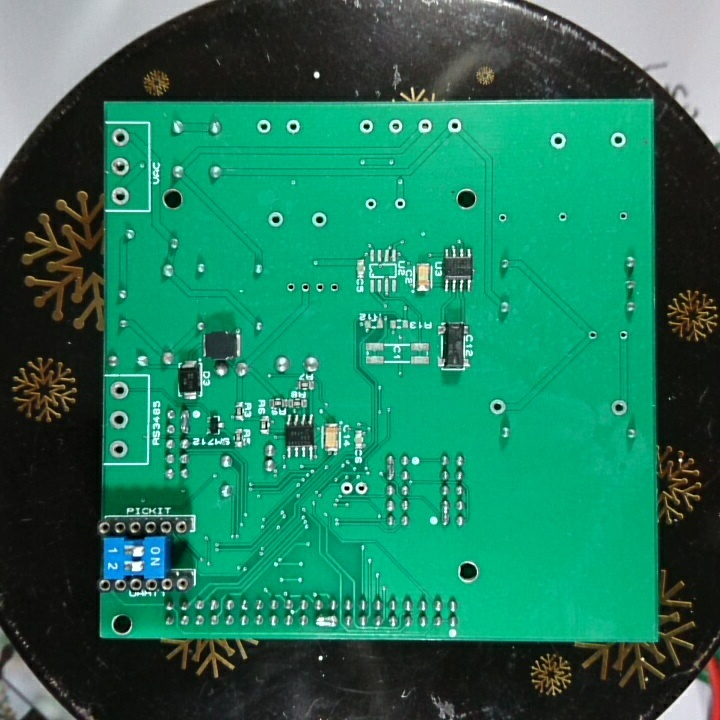F: (109, 183, 132, 208), (107, 437, 131, 460), (109, 127, 132, 150), (109, 155, 132, 178), (108, 379, 131, 402), (108, 408, 130, 431), (548, 131, 569, 153), (608, 130, 629, 151), (488, 396, 508, 418), (445, 116, 465, 138), (308, 209, 330, 229), (357, 117, 377, 138), (265, 209, 285, 230), (254, 118, 274, 138), (609, 398, 628, 418), (414, 117, 434, 136), (284, 117, 303, 137), (387, 117, 405, 135), (363, 195, 378, 215), (354, 480, 370, 498), (554, 210, 571, 226), (339, 480, 354, 498), (393, 196, 409, 211), (616, 329, 632, 343), (585, 328, 599, 343), (495, 211, 509, 226), (299, 280, 312, 296), (328, 280, 342, 294), (616, 209, 629, 224), (313, 280, 325, 296), (284, 280, 296, 296)
P: (313, 612, 339, 630), (177, 407, 192, 438), (385, 452, 397, 482), (439, 499, 451, 528)
